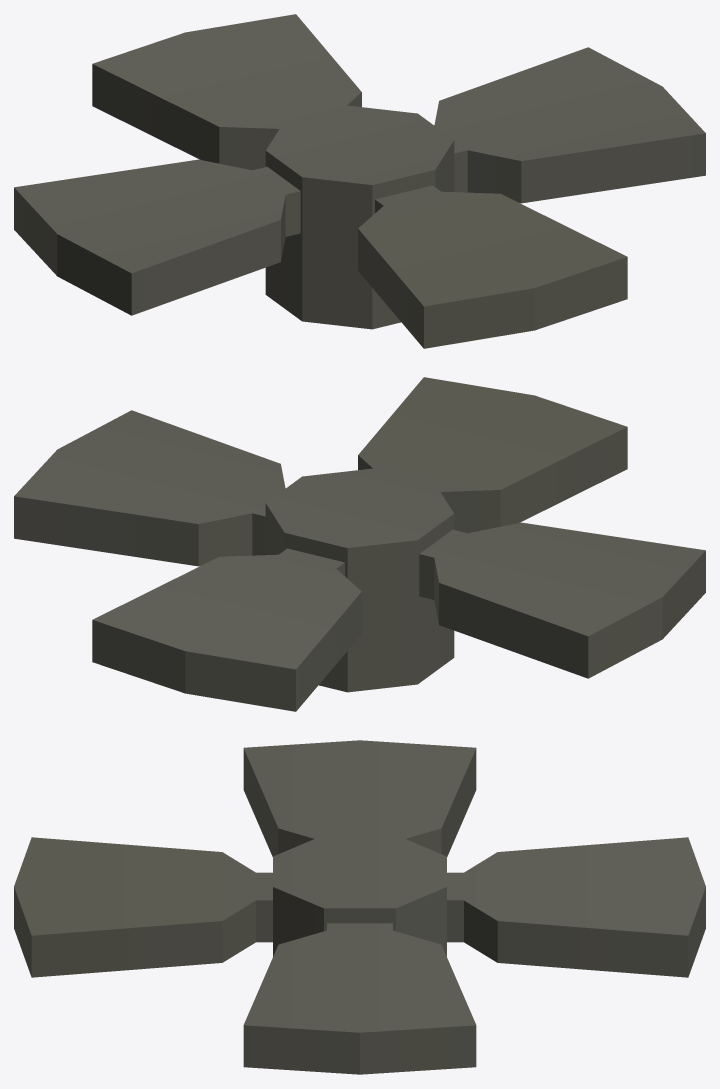
File: Fan_01.fbx
3 views of the same model, one above another, from view 1: azimuth 30°, elevation 25°; view 2: azimuth 150°, elevation 25°; view 3: azimuth 270°, elevation 25° (orthographic).
Parts seen in each view (by area): view 1: Fan_01; view 2: Fan_01; view 3: Fan_01.
Part boxes in pixels (<box>): Fan_01: <box>14,14,705,348</box>; Fan_01: <box>14,377,705,711</box>; Fan_01: <box>14,740,705,1074</box>.
Bounding box in the file's own units: 0.4062 × 0.0925 × 0.4062.
